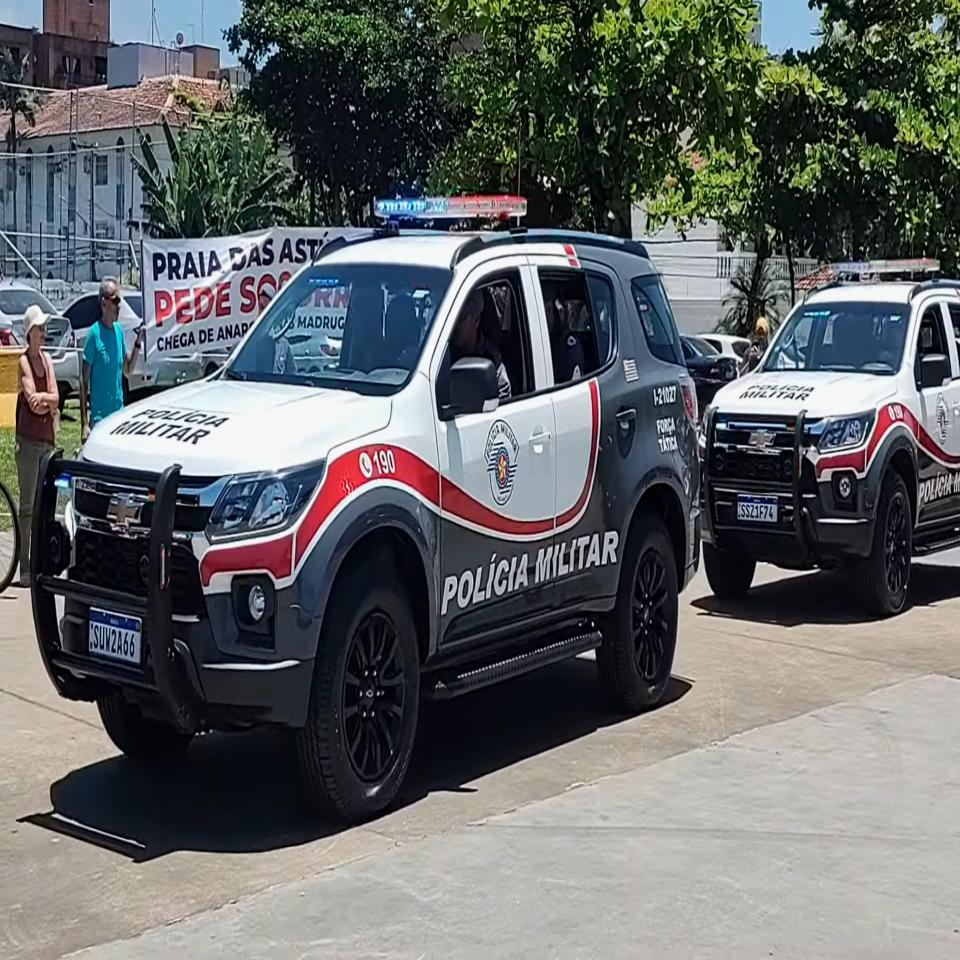viatura: (25, 192, 711, 829), (703, 257, 960, 615)
